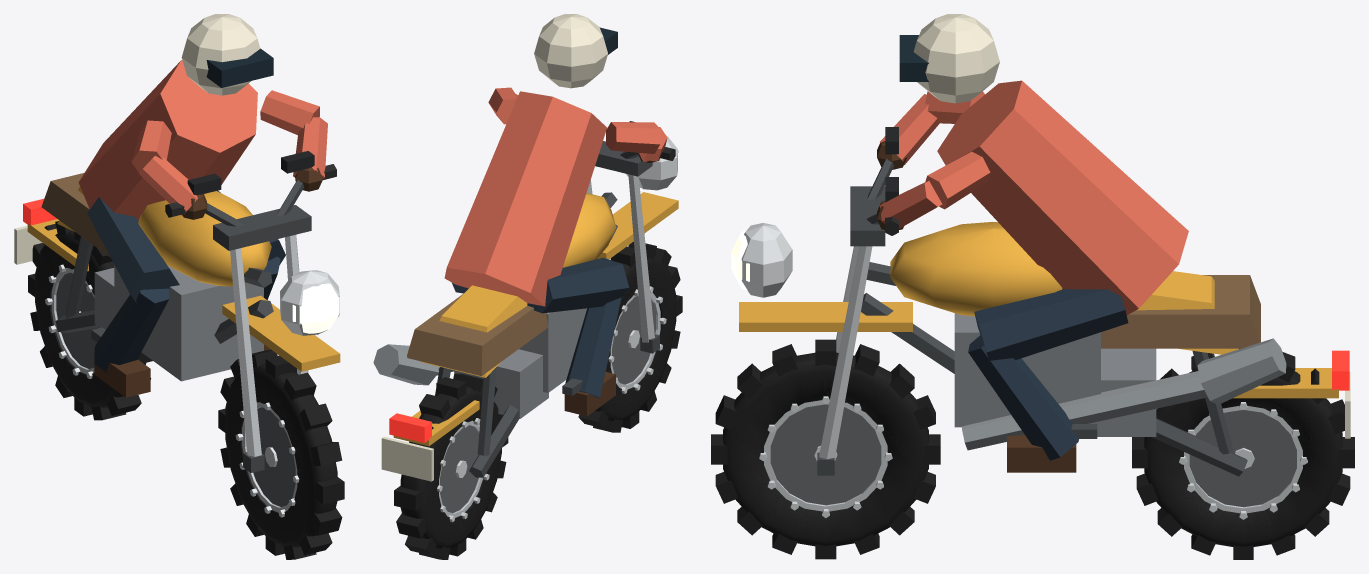
The model's file is pebble-trials.glb.
3 views of the same model, side by side, from view 1: azimuth 30°, elevation 25°; view 2: azimuth 150°, elevation 25°; view 3: azimuth 270°, elevation 25° (orthographic). The views are drawn at different scales.
Visible parts, largest first — view 1: rider, frame, wheel_F, fork, wheel_R, headlight, plate_R, taillight; view 2: rider, frame, wheel_R, wheel_F, fork, plate_R, headlight, taillight; view 3: rider, frame, wheel_F, wheel_R, fork, headlight.
Part boxes in pixels (bbox=[...]): rider: bbox=[78, 14, 327, 397]; frame: bbox=[27, 173, 273, 381]; wheel_F: bbox=[218, 349, 344, 559]; fork: bbox=[165, 151, 340, 472]; wheel_R: bbox=[28, 221, 152, 420]; headlight: bbox=[280, 270, 339, 335]; plate_R: bbox=[14, 225, 42, 264]; taillight: bbox=[23, 198, 56, 225]; rider: bbox=[444, 14, 667, 416]; frame: bbox=[373, 192, 617, 477]; wheel_R: bbox=[394, 373, 508, 559]; wheel_F: bbox=[578, 241, 682, 432]; fork: bbox=[586, 121, 678, 353]; plate_R: bbox=[381, 436, 433, 481]; headlight: bbox=[626, 135, 678, 190]; taillight: bbox=[389, 413, 431, 442]; rider: bbox=[877, 14, 1188, 472]; frame: bbox=[861, 222, 1338, 476]; wheel_F: bbox=[711, 339, 940, 559]; wheel_R: bbox=[1132, 348, 1354, 559]; fork: bbox=[739, 127, 912, 475]; headlight: bbox=[731, 223, 792, 297].
Size of the model in its own units: 0.6855 by 1.7 by 1.85.
